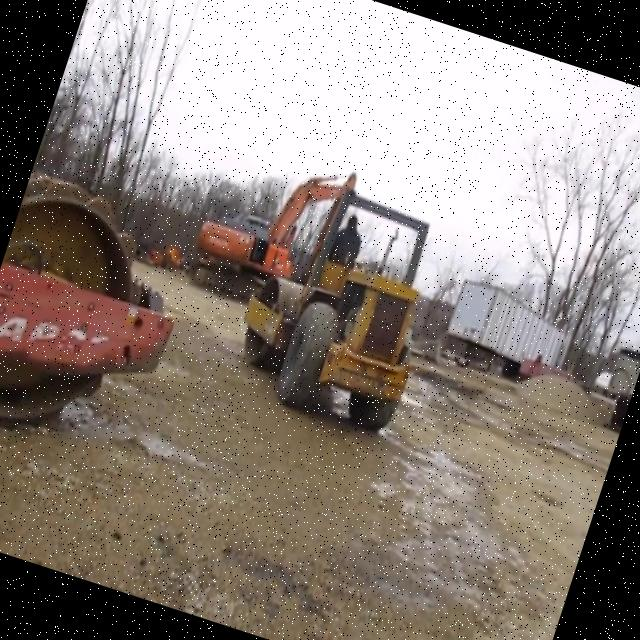Excavator: (186, 134, 357, 320)
Roller: (225, 170, 462, 435)
